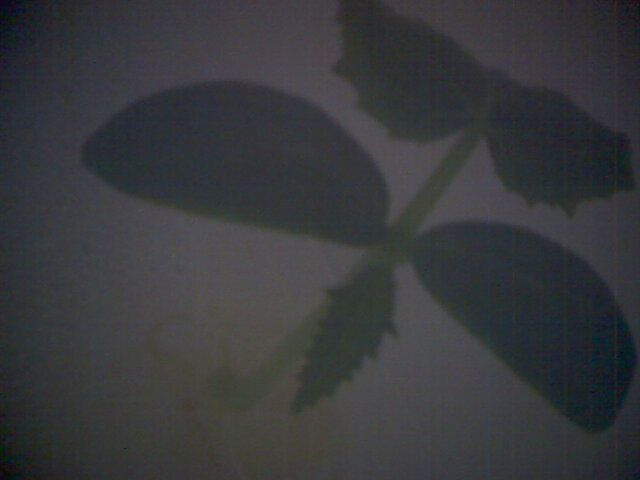lil_plant: (100, 23, 626, 441)
